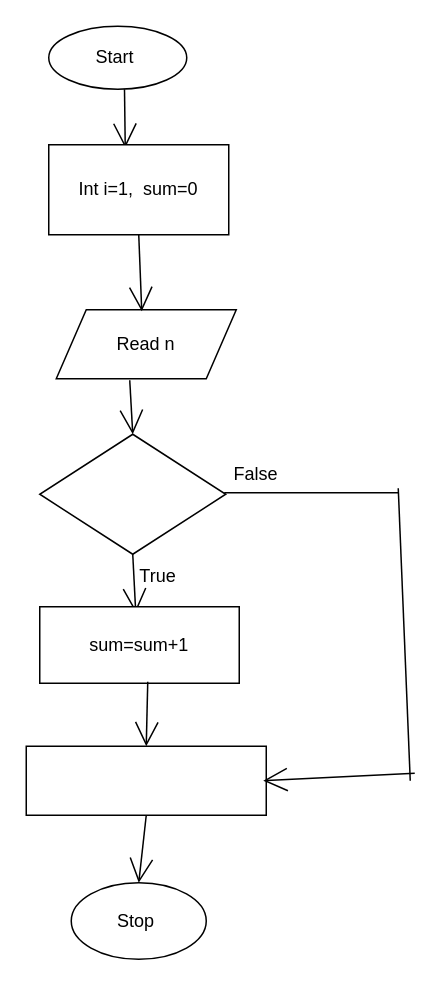
Some shapes in this 441 by 986 pixel diagram are drawn without their labels. The shapes that lost their labels are listed below. From the top down, each one's box as (x1, y1, x2, y2) in pixels, then its label:
(38, 433, 226, 554): For i=1 and i<=n
(25, 745, 266, 815): Print sum
